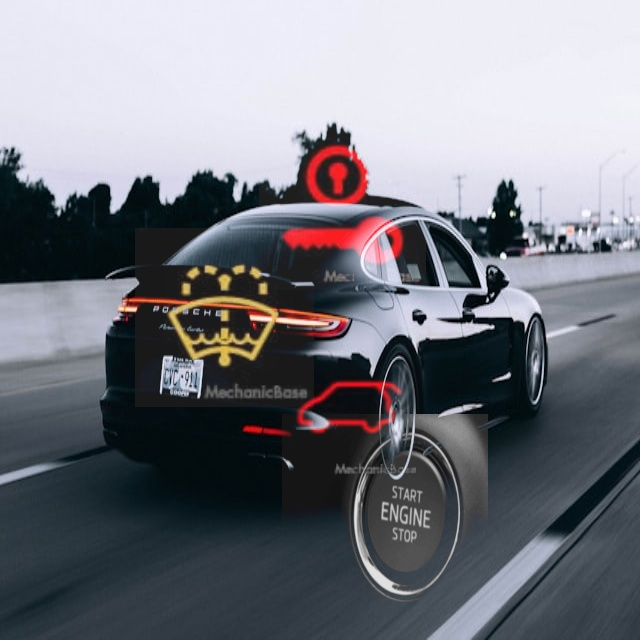symbol: (282, 414, 488, 620), (135, 228, 314, 407), (259, 123, 426, 290), (279, 338, 422, 481)
